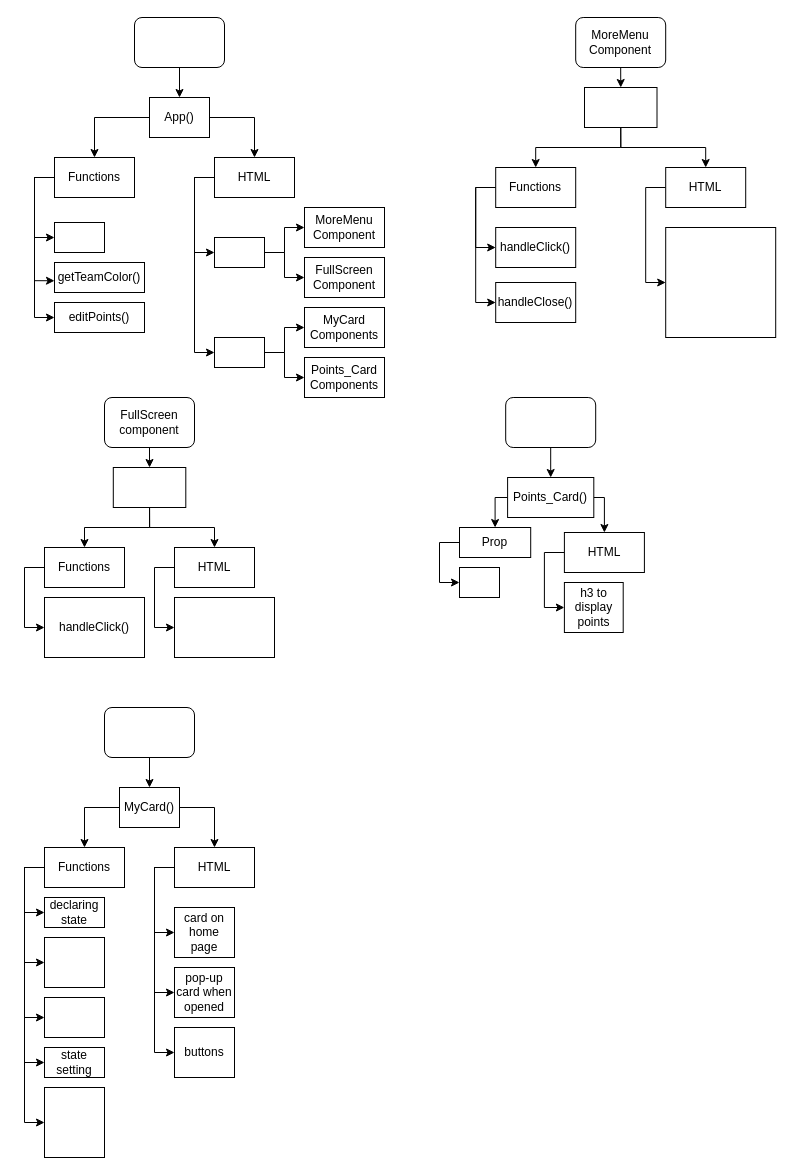
Some shapes in this 794 by 1175 pixel diagram are drawn without their labels. Each missing label, with the centre of its shape:
App.tsx: the point at 179,42
Creator Documentation link Player Manual: the point at 720,282
fullScreen(): the point at 149,487
Header: the point at 239,252
Hooks: the point at 79,237
Image of the button (clickable): the point at 224,627
Lists: the point at 239,352
moreMenu(): the point at 620,107
MyCard.tsx: the point at 149,732
Points: the point at 479,582
pointsCard.tsx: the point at 550,422
sound: the point at 74,1017
useEffect hook for progress bar: the point at 74,1122
useEffect Hook for sound: the point at 74,962
